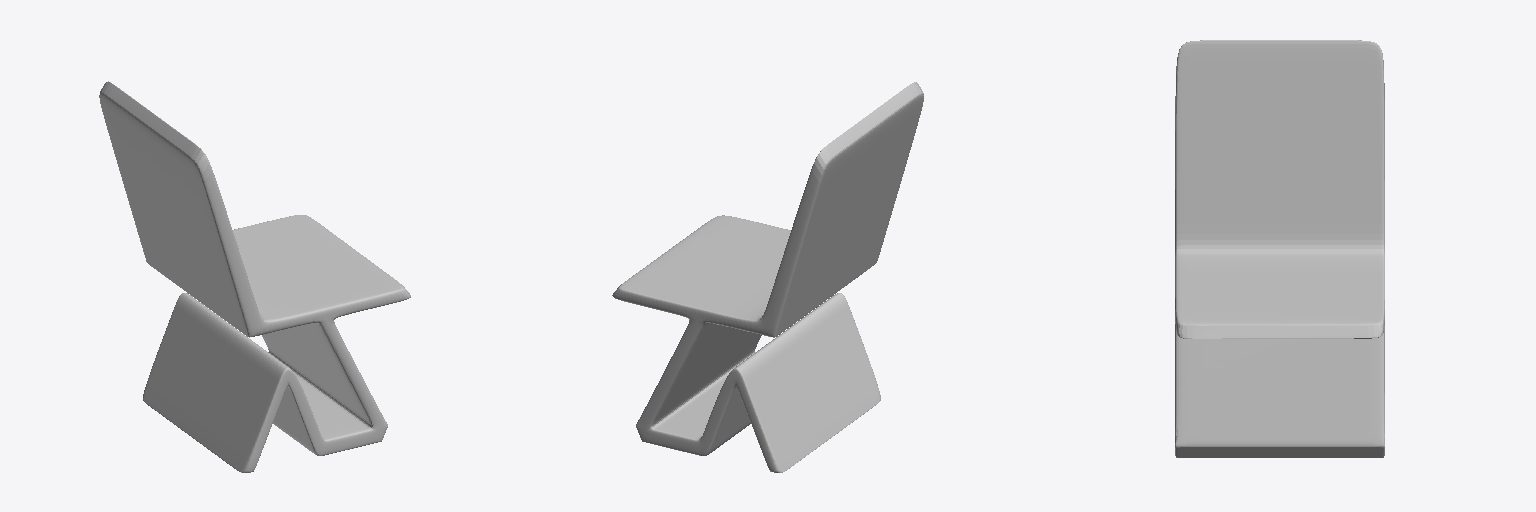
File: chair.obj
3 renders of one model, left to right at view 1: azimuth 30°, elevation 25°; view 2: azimuth 150°, elevation 25°; view 3: azimuth 270°, elevation 25°, orthographic.
Visible parts, largest first — view 1: Plane; view 2: Plane; view 3: Plane.
Boxes of the visible parts, <box> form: Plane: <box>99,81,410,472</box>; Plane: <box>612,82,923,472</box>; Plane: <box>1175,40,1384,457</box>.
Bounding box in the file's own units: 2.37 × 3.48 × 2.